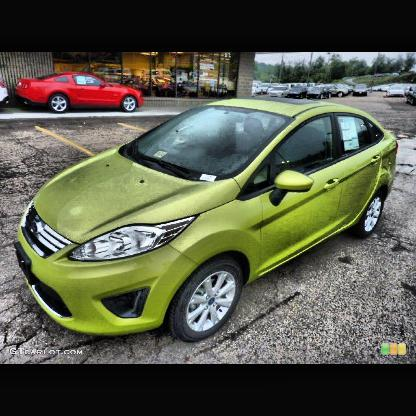Ford Fiesta Sedan 2012: (16, 97, 401, 346)
